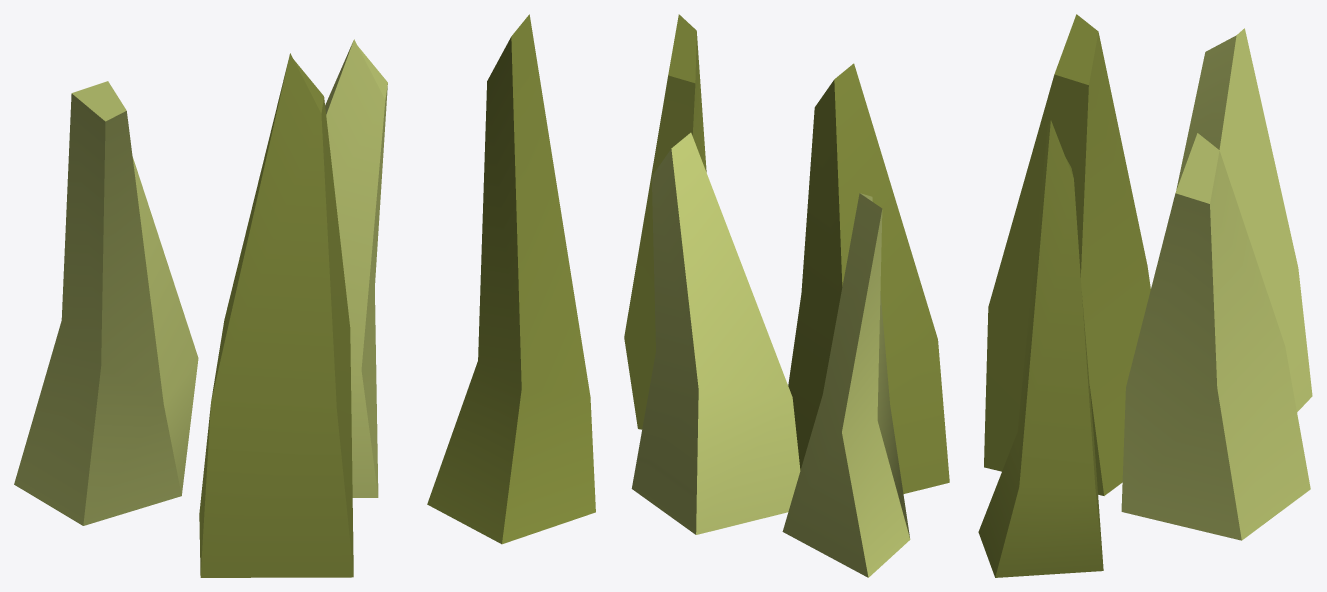
Rendered from Grass_4.fbx.
The picture shows the model from 3 angles, left to right: view 1: azimuth 30°, elevation 25°; view 2: azimuth 150°, elevation 25°; view 3: azimuth 270°, elevation 25°; orthographic projection. The views are drawn at different scales.
Parts seen in each view (by area): view 1: Grass_4; view 2: Grass_4; view 3: Grass_4.
Boxes of the visible parts, x1,y1,x2,y2 form: Grass_4: [14, 14, 595, 577]; Grass_4: [624, 14, 949, 577]; Grass_4: [978, 14, 1312, 577].
Size of the model in its own units: 0.0275 by 0.031 by 0.021.
